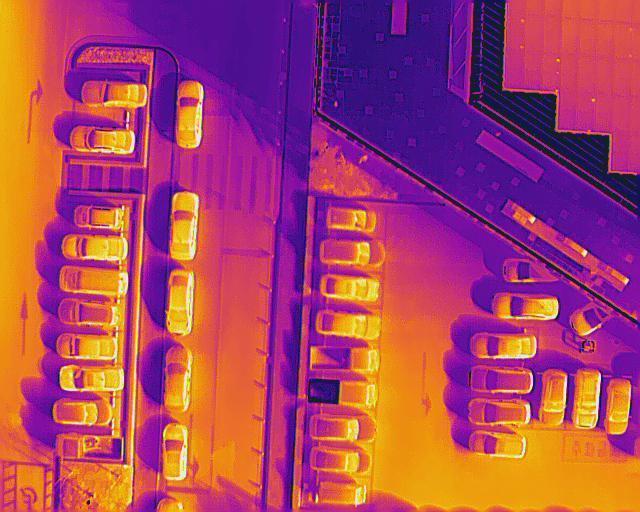Cell-Multi: (506, 16, 526, 54), (542, 53, 561, 91), (614, 21, 633, 59), (577, 93, 595, 131)
No-Anomaly: (542, 16, 562, 56), (558, 93, 578, 131), (577, 56, 596, 95), (525, 16, 544, 55), (595, 57, 614, 94), (560, 56, 579, 93), (561, 18, 579, 57), (578, 19, 596, 57), (613, 95, 631, 133), (595, 93, 612, 133), (613, 59, 631, 96), (524, 53, 542, 90), (612, 132, 629, 171), (597, 20, 614, 58), (505, 54, 523, 89)
